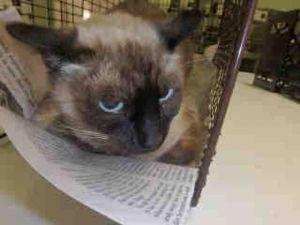siamese: (18, 1, 210, 179)
